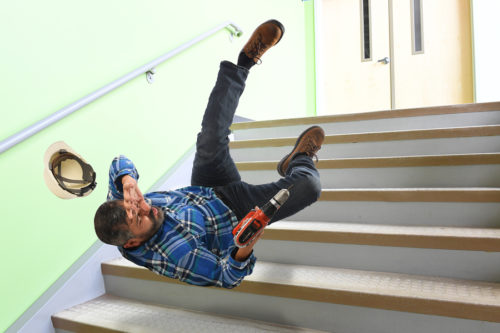fall: (30, 14, 355, 305)
